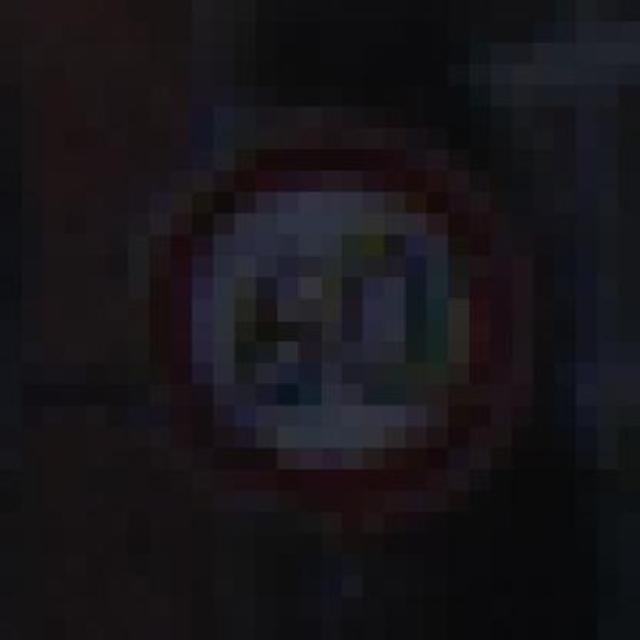forb_speed_over_60: (137, 137, 511, 515)
